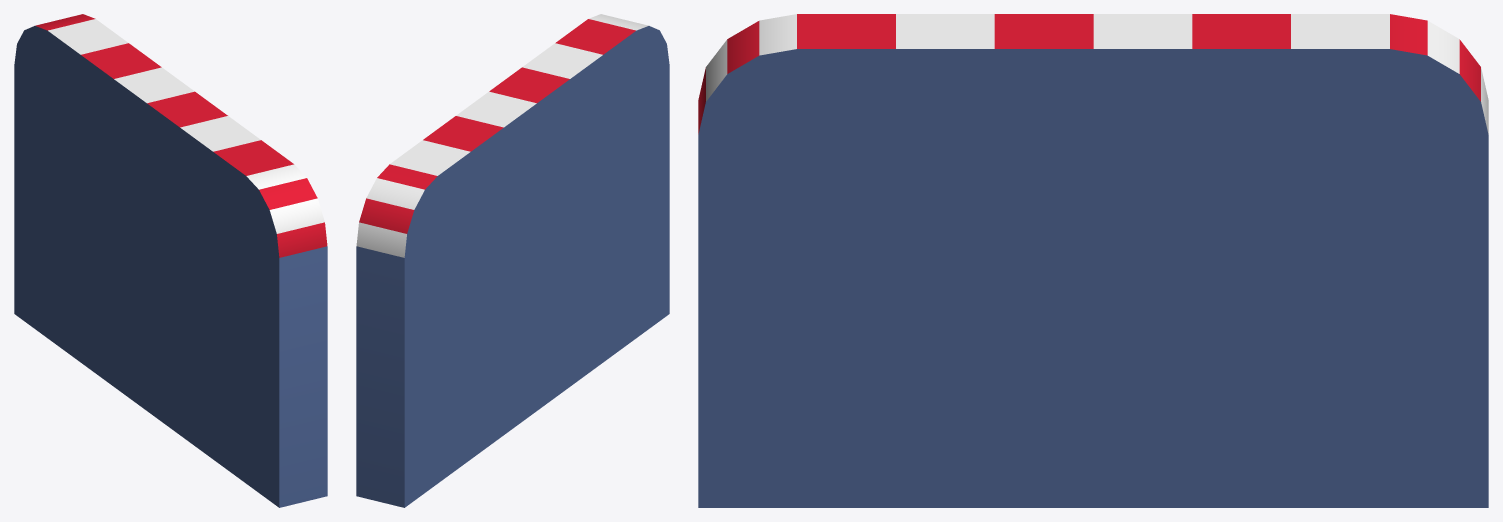
The model's file is Barriers.fbx.
3 renders of one model, left to right at view 1: azimuth 30°, elevation 25°; view 2: azimuth 150°, elevation 25°; view 3: azimuth 270°, elevation 25°, orthographic. The views are drawn at different scales.
Parts seen in each view (by area): view 1: Cube.002; view 2: Cube.002; view 3: Cube.002.
Part boxes in pixels (box(x1,y1,x2,y2)): Cube.002: box(14, 14, 327, 507); Cube.002: box(356, 14, 669, 507); Cube.002: box(698, 14, 1488, 507).
Size of the model in its own units: 32.73 by 200 by 312.
